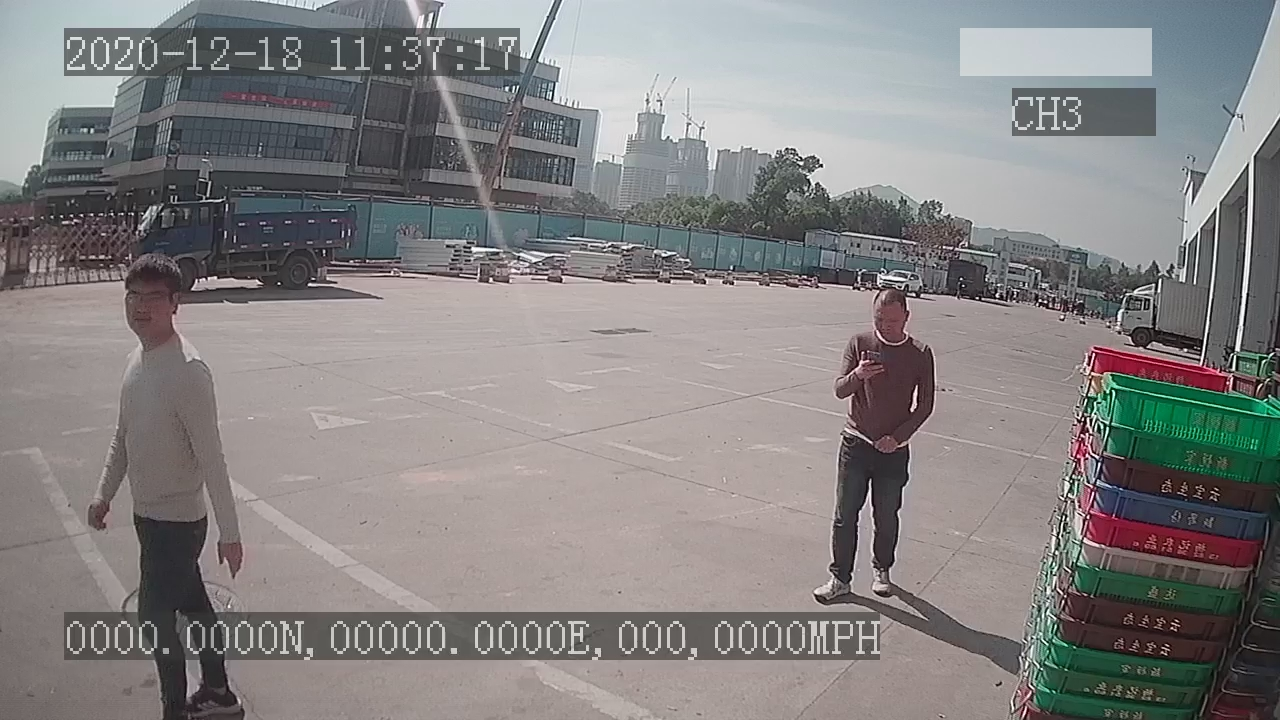person: (808, 287, 938, 603)
